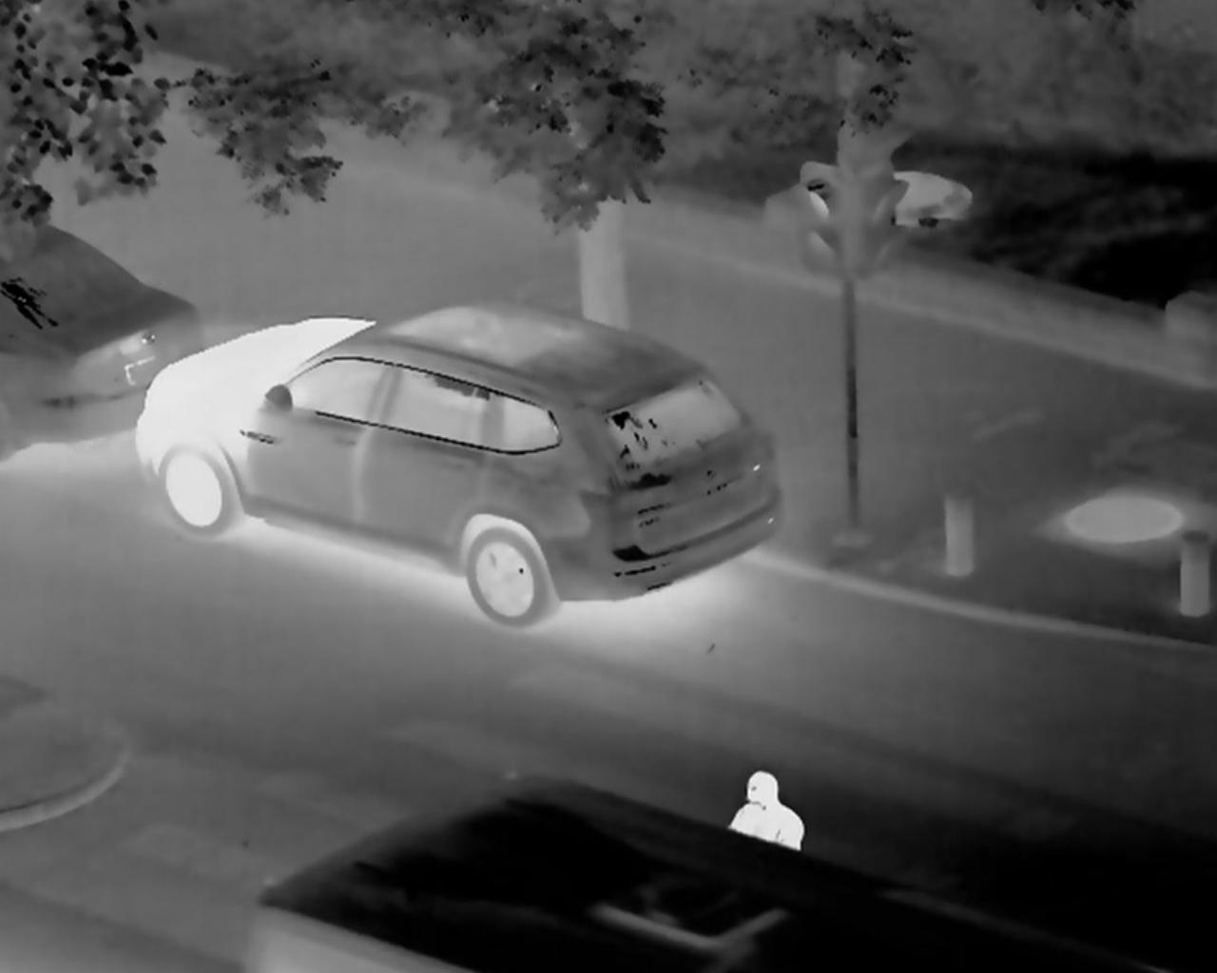person: (734, 759, 831, 842)
